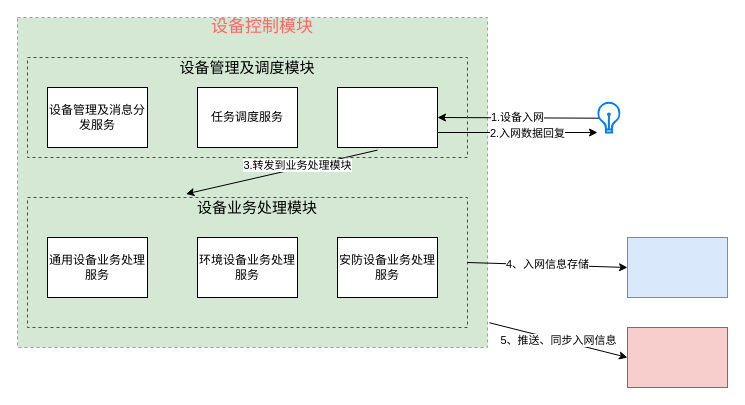
This 745x405 diagram has some shape labels left out. Each missing label, with the box of its shape:
外部通信模块: (626, 326, 728, 388)
数据接口模块: (626, 236, 728, 298)
数据收发及转换服务: (336, 86, 438, 148)
